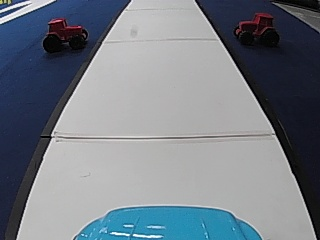tractor: (42, 15, 89, 53), (231, 10, 279, 47)
